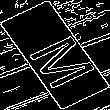M_NE: (14, 22, 96, 88)
